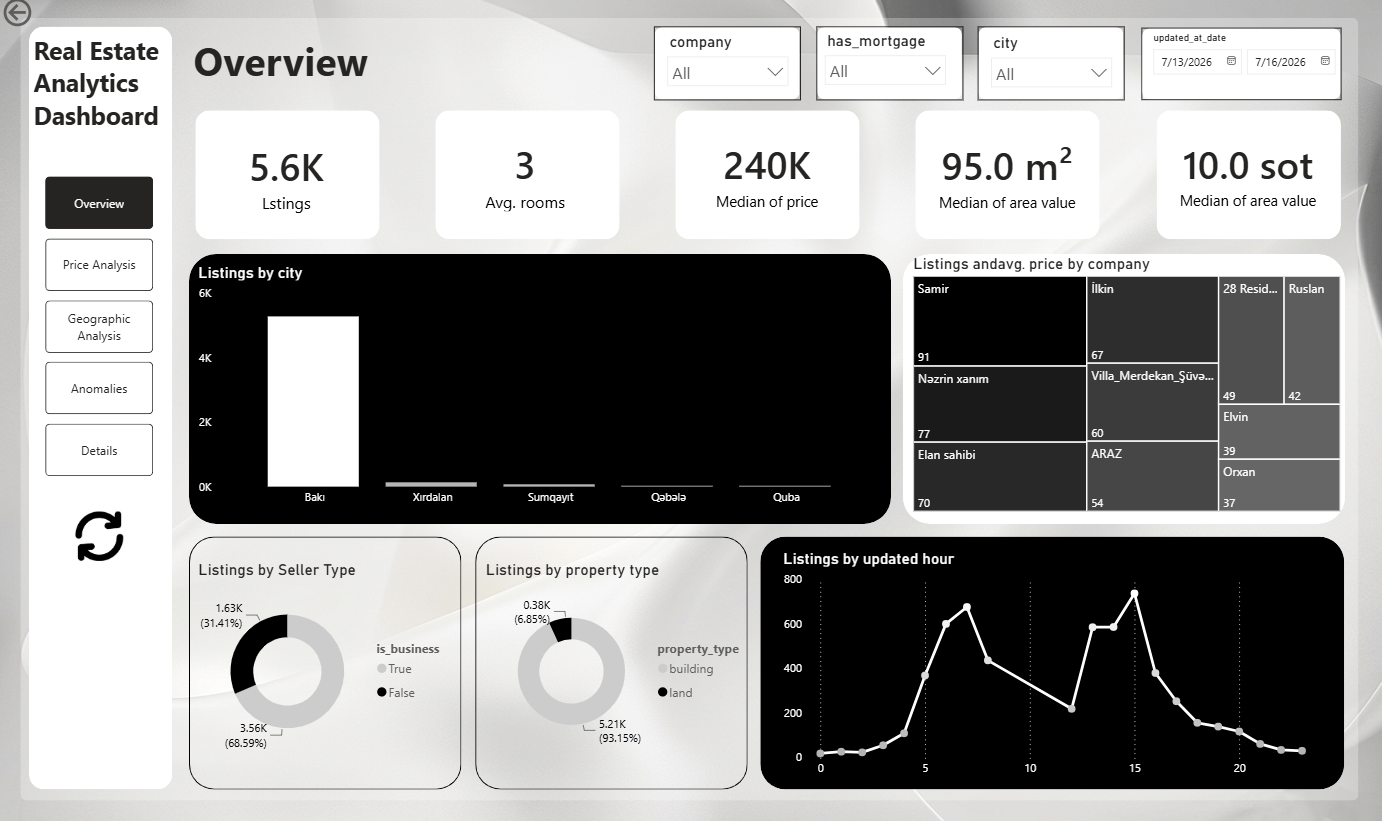

The dashboard page shown, as its layout file describes it:
{"tool":"powerbi","page":{"name":"Overview","canvas":[1500,900],"ordinal":0},"visuals":[{"type":"shape","box":[23.2,25.9,1451.2,848.9],"z":0},{"type":"shape","box":[472.9,125.5,200,140],"z":1000},{"type":"shape","box":[32.7,35.4,155.3,827.1],"z":2000},{"type":"textbox","box":[205.4,38,223.7,68.9],"z":3000},{"type":"shape","box":[212.2,125.5,200,140],"z":4000},{"type":"shape","box":[994.2,125.5,200,140],"z":5000},{"type":"shape","box":[733.5,125.5,200,140],"z":6000},{"type":"shape","box":[1254.8,125.5,200,140],"z":7000},{"type":"cardVisual","fields":{"Data":["Count(listings.id)"]},"box":[233.6,137.9,157.6,119.6],"z":8000},{"type":"cardVisual","fields":{"Data":["Avg(listings.rooms)"]},"box":[468.9,136,203.4,120.5],"z":9000},{"type":"cardVisual","fields":{"Data":["Median(listings.price)"]},"box":[740.9,136,183.9,120.5],"z":10000},{"type":"cardVisual","fields":{"Data":["Median(listings.area_value)"]},"box":[981.9,130.8,224.1,130.8],"z":11000},{"type":"cardVisual","fields":{"Data":["Median(listings.area_value)"]},"box":[1244.8,137.3,220.2,115.3],"z":12000},{"type":"shape","box":[516.4,587.6,295.5,274.4],"z":13000},{"type":"shape","box":[205.4,587.6,295.5,274.4],"z":14000},{"type":"shape","box":[1061,35.2,159,80.2],"z":15000},{"type":"shape","box":[979.4,281.4,479.8,292.7],"z":16000},{"type":"shape","box":[826,588.2,633.2,274.4],"z":17000},{"type":"shape","box":[886.5,35.2,159,80.2],"z":18000},{"type":"shape","box":[710.6,35.2,159,80.2],"z":19000},{"type":"shape","box":[1238.2,37,217.1,78.8],"z":20000},{"type":"shape","box":[205.4,281.4,761.3,292.7],"z":21000},{"type":"columnChart","title":"Listings by city","fields":{"Category":["listings.city","listings.district","listings.district_full"],"Y":["CountNonNull(listings.city)"]},"box":[211.1,291.3,750,273],"z":22000},{"type":"donutChart","title":"Listings by property type","fields":{"Category":["listings.property_type"],"Y":["CountNonNull(listings.property_type)"]},"box":[523.5,613.5,288.5,222.3],"z":23000},{"type":"donutChart","title":"Listings by Seller Type","fields":{"Category":["listings.is_business"],"Y":["CountNonNull(listings.has_repair)"]},"box":[211.1,613.5,289.9,222.3],"z":24000},{"type":"lineChart","title":"Listings by updated hour","fields":{"Y":["CountNonNull(listings.id)"],"Category":["listings.updated_at_just_hour"]},"box":[845.7,602.3,605.1,256.1],"z":25000},{"type":"treemap","title":"Listings andavg. price by company","fields":{"Group":["listings.company"],"Values":["CountNonNull(listings.id)"]},"box":[986.4,281.4,472.8,284.2],"z":26000},{"type":"slicer","fields":{"Values":["listings.city"]},"box":[1065.2,38,152,77.4],"z":27000},{"type":"slicer","fields":{"Values":["listings.updated_at_date"]},"box":[1238.2,35.4,217.1,77.2],"z":28000},{"type":"slicer","fields":{"Values":["listings.has_mortgage"]},"box":[885.1,35.2,152,77.4],"z":29000},{"type":"slicer","fields":{"Values":["listings.company"]},"box":[714.8,36.6,152,77.4],"z":30000},{"type":"textbox","box":[32.4,38,173.1,128],"z":31000},{"type":"actionButton","box":[0,0,100,40],"z":32000},{"type":"pageNavigator","box":[50.4,197.6,117.2,329.8],"z":33000},{"type":"image","box":[73.4,560.9,71.7,53.8],"z":34000}]}

Visuals, with their boxes on the page's 1500x900 design canvas (x1, y1, x2, y2). These are canvas units, not pixel positions in the 1382x821 screenshot, which may show the page scaled, cropped or inside an application window:
shape: {"x1": 23, "y1": 26, "x2": 1474, "y2": 875}
shape: {"x1": 473, "y1": 126, "x2": 673, "y2": 266}
shape: {"x1": 33, "y1": 35, "x2": 188, "y2": 862}
textbox: {"x1": 205, "y1": 38, "x2": 429, "y2": 107}
shape: {"x1": 212, "y1": 126, "x2": 412, "y2": 266}
shape: {"x1": 994, "y1": 126, "x2": 1194, "y2": 266}
shape: {"x1": 734, "y1": 126, "x2": 934, "y2": 266}
shape: {"x1": 1255, "y1": 126, "x2": 1455, "y2": 266}
cardVisual - Count(listings.id): {"x1": 234, "y1": 138, "x2": 391, "y2": 258}
cardVisual - Avg(listings.rooms): {"x1": 469, "y1": 136, "x2": 672, "y2": 256}
cardVisual - Median(listings.price): {"x1": 741, "y1": 136, "x2": 925, "y2": 256}
cardVisual - Median(listings.area_value): {"x1": 982, "y1": 131, "x2": 1206, "y2": 262}
cardVisual - Median(listings.area_value): {"x1": 1245, "y1": 137, "x2": 1465, "y2": 253}
shape: {"x1": 516, "y1": 588, "x2": 812, "y2": 862}
shape: {"x1": 205, "y1": 588, "x2": 501, "y2": 862}
shape: {"x1": 1061, "y1": 35, "x2": 1220, "y2": 115}
shape: {"x1": 979, "y1": 281, "x2": 1459, "y2": 574}
shape: {"x1": 826, "y1": 588, "x2": 1459, "y2": 863}
shape: {"x1": 886, "y1": 35, "x2": 1046, "y2": 115}
shape: {"x1": 711, "y1": 35, "x2": 870, "y2": 115}
shape: {"x1": 1238, "y1": 37, "x2": 1455, "y2": 116}
shape: {"x1": 205, "y1": 281, "x2": 967, "y2": 574}
"Listings by city" columnChart: {"x1": 211, "y1": 291, "x2": 961, "y2": 564}
"Listings by property type" donutChart: {"x1": 524, "y1": 614, "x2": 812, "y2": 836}
"Listings by Seller Type" donutChart: {"x1": 211, "y1": 614, "x2": 501, "y2": 836}
"Listings by updated hour" lineChart: {"x1": 846, "y1": 602, "x2": 1451, "y2": 858}
"Listings andavg. price by company" treemap: {"x1": 986, "y1": 281, "x2": 1459, "y2": 566}
slicer - listings.city: {"x1": 1065, "y1": 38, "x2": 1217, "y2": 115}
slicer - listings.updated_at_date: {"x1": 1238, "y1": 35, "x2": 1455, "y2": 113}
slicer - listings.has_mortgage: {"x1": 885, "y1": 35, "x2": 1037, "y2": 113}
slicer - listings.company: {"x1": 715, "y1": 37, "x2": 867, "y2": 114}
textbox: {"x1": 32, "y1": 38, "x2": 206, "y2": 166}
actionButton: {"x1": 0, "y1": 0, "x2": 100, "y2": 40}
pageNavigator: {"x1": 50, "y1": 198, "x2": 168, "y2": 527}
image: {"x1": 73, "y1": 561, "x2": 145, "y2": 615}
